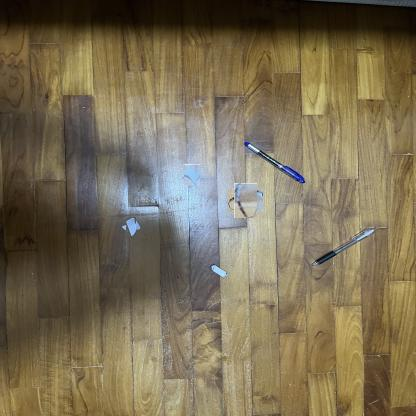dirty: (231, 186, 260, 215), (183, 166, 202, 184), (124, 218, 138, 234)
